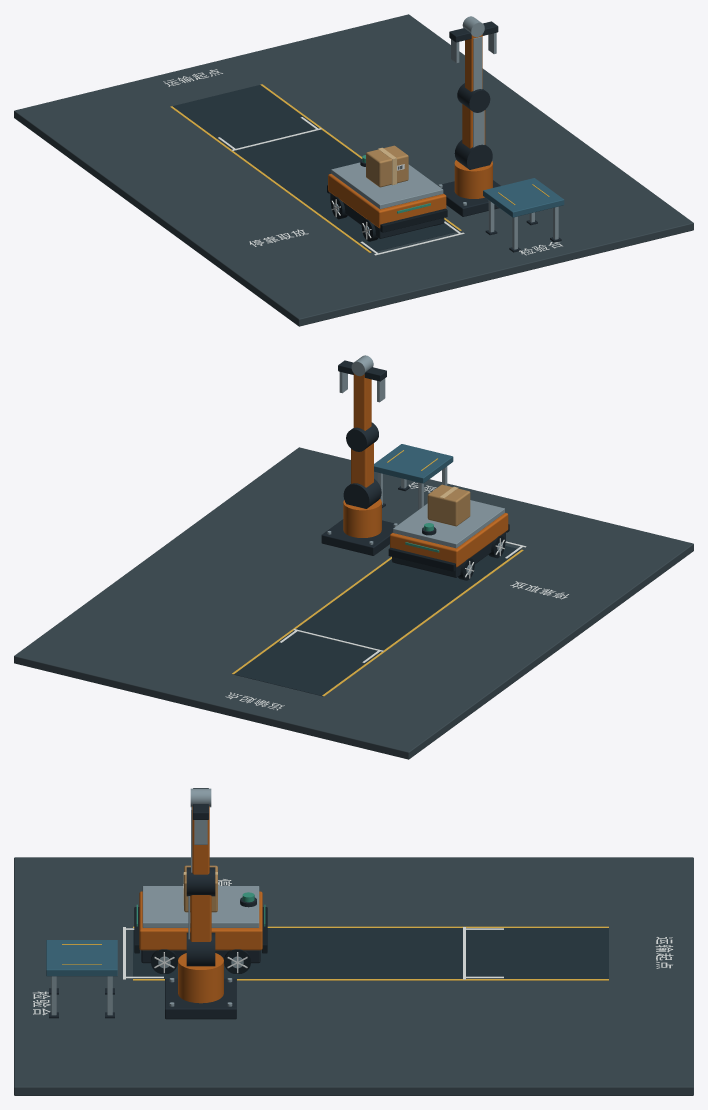
Rendered from handling-cell.fc8895589305.glb.
3 renders of one model, top to bottom at view 1: azimuth 30°, elevation 25°; view 2: azimuth 150°, elevation 25°; view 3: azimuth 270°, elevation 25°, orthographic. The views are drawn at different scales.
Parts seen in each view (by area): view 1: supporting_floor, transport_lane, agv_deck, agv_chassis, inspection_tabletop, cargo_body, robot_pedestal, robot_baseplate, robot_shoulder_axle, agv_underbody, agv_front_bumper, robot_elbow_axle (+4 smaller); view 2: supporting_floor, transport_lane, agv_deck, agv_chassis, inspection_tabletop, cargo_body, robot_baseplate, robot_pedestal, robot_fore_link, robot_upper_link, robot_shoulder_axle, agv_underbody (+2 smaller); view 3: supporting_floor, transport_lane, agv_deck, inspection_tabletop, agv_chassis, robot_baseplate, robot_pedestal, robot_upper_link, robot_shoulder_axle, lane_edge_right, robot_elbow_axle, robot_fore_link (+2 smaller).
Boxes of the visible parts, x1,y1,x2,y2 form: supporting_floor: (14, 14, 693, 326); transport_lane: (172, 85, 459, 252); agv_deck: (331, 162, 443, 209); agv_chassis: (328, 174, 446, 228); inspection_tabletop: (483, 178, 564, 217); cargo_body: (366, 145, 408, 187); robot_pedestal: (454, 160, 492, 198); robot_baseplate: (438, 180, 500, 216); robot_shoulder_axle: (454, 140, 492, 169); agv_underbody: (330, 193, 444, 238); agv_front_bumper: (380, 208, 447, 232); robot_elbow_axle: (457, 83, 490, 112); supporting_floor: (14, 447, 693, 759); transport_lane: (233, 545, 520, 696); agv_deck: (393, 500, 504, 548); agv_chassis: (390, 513, 508, 567); inspection_tabletop: (374, 444, 453, 483); cargo_body: (427, 484, 470, 526); robot_baseplate: (321, 519, 398, 555); robot_pedestal: (343, 499, 381, 537); robot_fore_link: (353, 373, 371, 430); robot_upper_link: (351, 443, 373, 487); robot_shoulder_axle: (343, 478, 381, 508); agv_underbody: (392, 532, 505, 577); supporting_floor: (14, 857, 693, 1095); transport_lane: (133, 928, 608, 978); agv_deck: (142, 886, 259, 927); inspection_tabletop: (46, 940, 117, 976); agv_chassis: (139, 891, 262, 950); robot_baseplate: (165, 978, 236, 1019); robot_pedestal: (178, 953, 223, 1003); robot_upper_link: (190, 895, 211, 941); robot_shoulder_axle: (186, 932, 215, 966); lane_edge_right: (133, 979, 608, 980); robot_elbow_axle: (186, 867, 215, 896); robot_fore_link: (192, 806, 209, 874).
Bounding box in the file's own units: 6.4 × 2.91 × 8.
